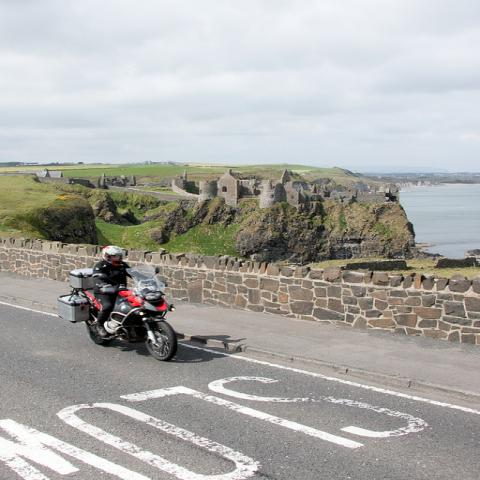motorcycle: (54, 265, 180, 363)
